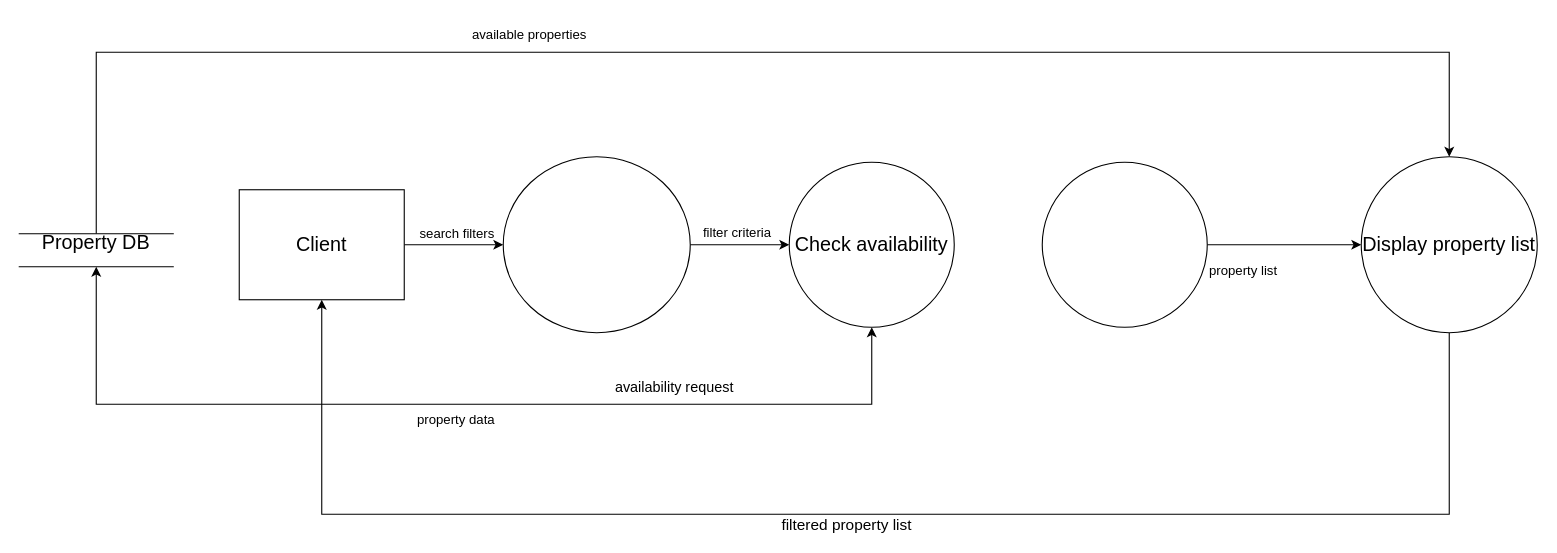
This 1557x553 diagram has some shape labels left out. Each missing label, with the centre of its shape:
Enter search filters: point 596,244
Retrieve property: point 1124,244
